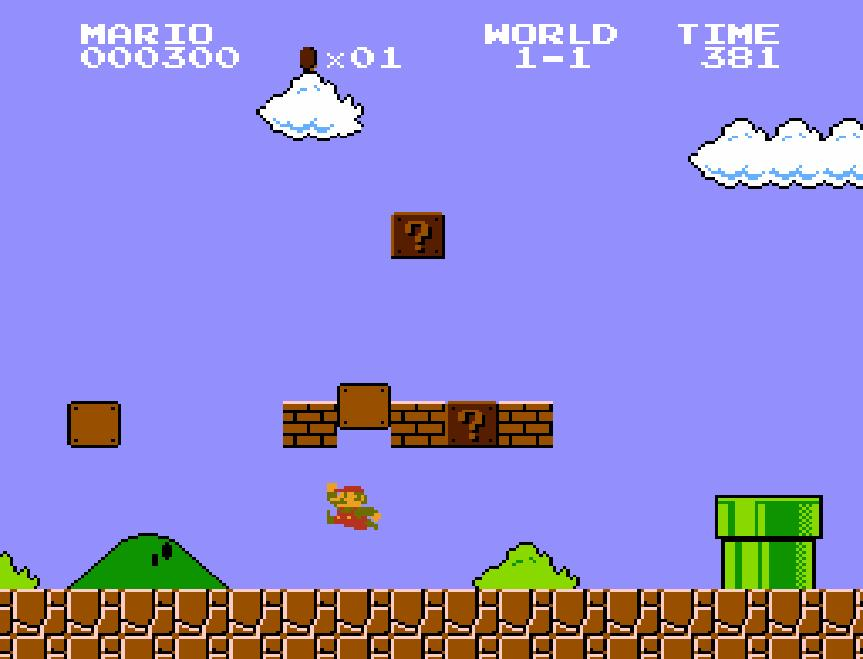little_mario: (324, 482, 382, 532)
